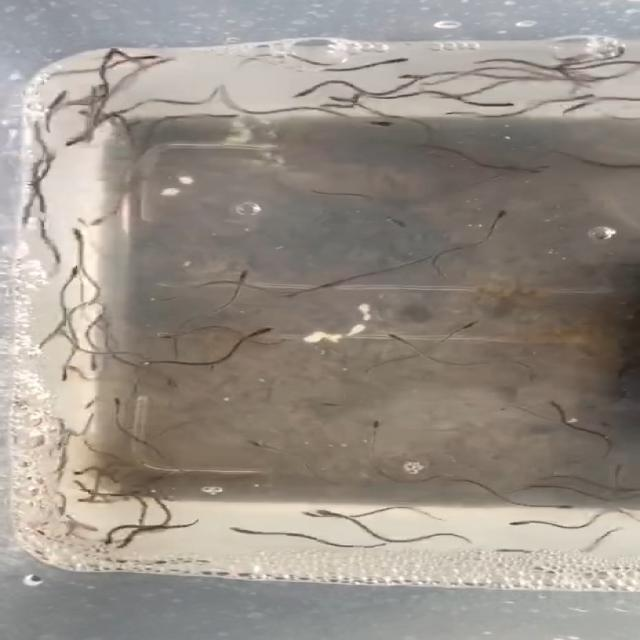inactive_glass_eel: (452, 318, 494, 340), (128, 326, 188, 341), (341, 414, 393, 431), (546, 63, 586, 82), (235, 438, 280, 454), (45, 85, 81, 104), (59, 268, 96, 286), (234, 323, 278, 337), (506, 519, 556, 531), (134, 53, 174, 68), (560, 105, 603, 118), (86, 356, 110, 379), (304, 397, 342, 411), (66, 225, 92, 245), (381, 215, 418, 229), (213, 267, 256, 279), (91, 529, 122, 545), (385, 73, 426, 85), (536, 396, 573, 409), (219, 524, 258, 536), (282, 88, 323, 99), (106, 397, 136, 412), (272, 288, 312, 299), (389, 332, 413, 350), (61, 138, 97, 150), (375, 57, 423, 66), (545, 502, 578, 514), (52, 364, 76, 380), (68, 465, 91, 479), (310, 506, 339, 517), (490, 210, 512, 222), (84, 392, 104, 405), (368, 120, 394, 130), (298, 512, 320, 522), (121, 538, 138, 549)
